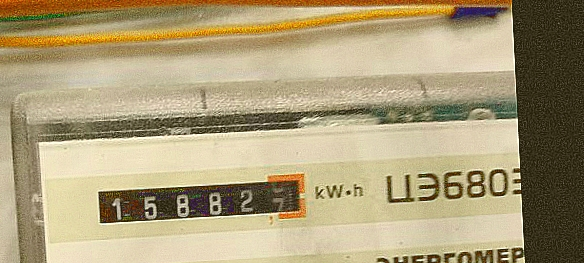1: (110, 192, 124, 221)
2: (237, 186, 255, 213)
5: (141, 192, 159, 223)
7: (270, 194, 284, 211)
8: (173, 190, 190, 219), (206, 188, 223, 216)
screen: (85, 163, 314, 235)
